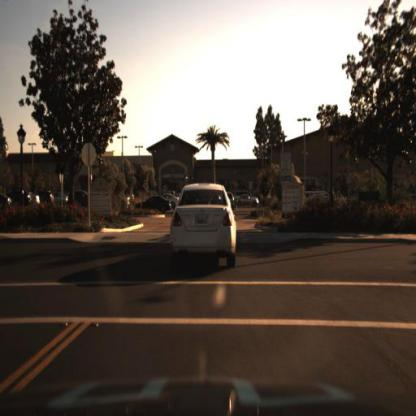car: (171, 184, 240, 272), (137, 195, 174, 217), (66, 188, 93, 210), (235, 193, 259, 210), (233, 192, 259, 206)
